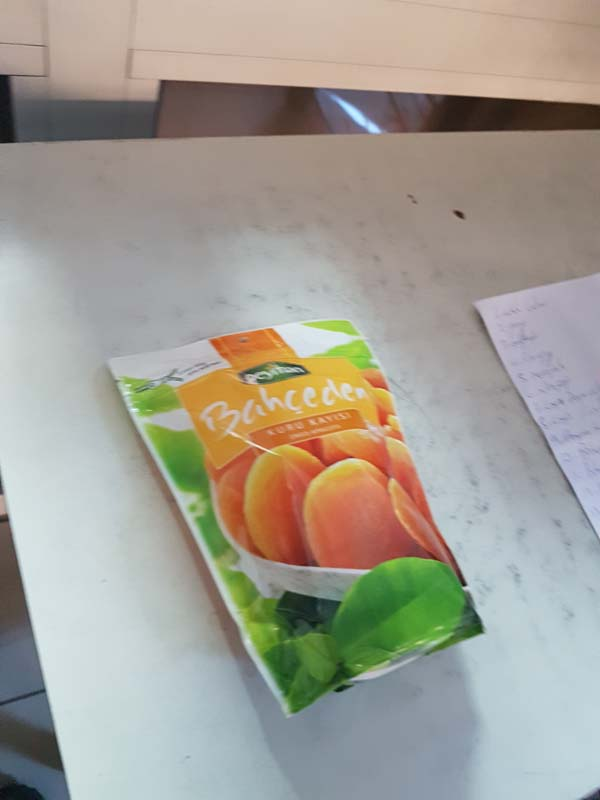bahcedenkurukayisi: (101, 316, 491, 718)
